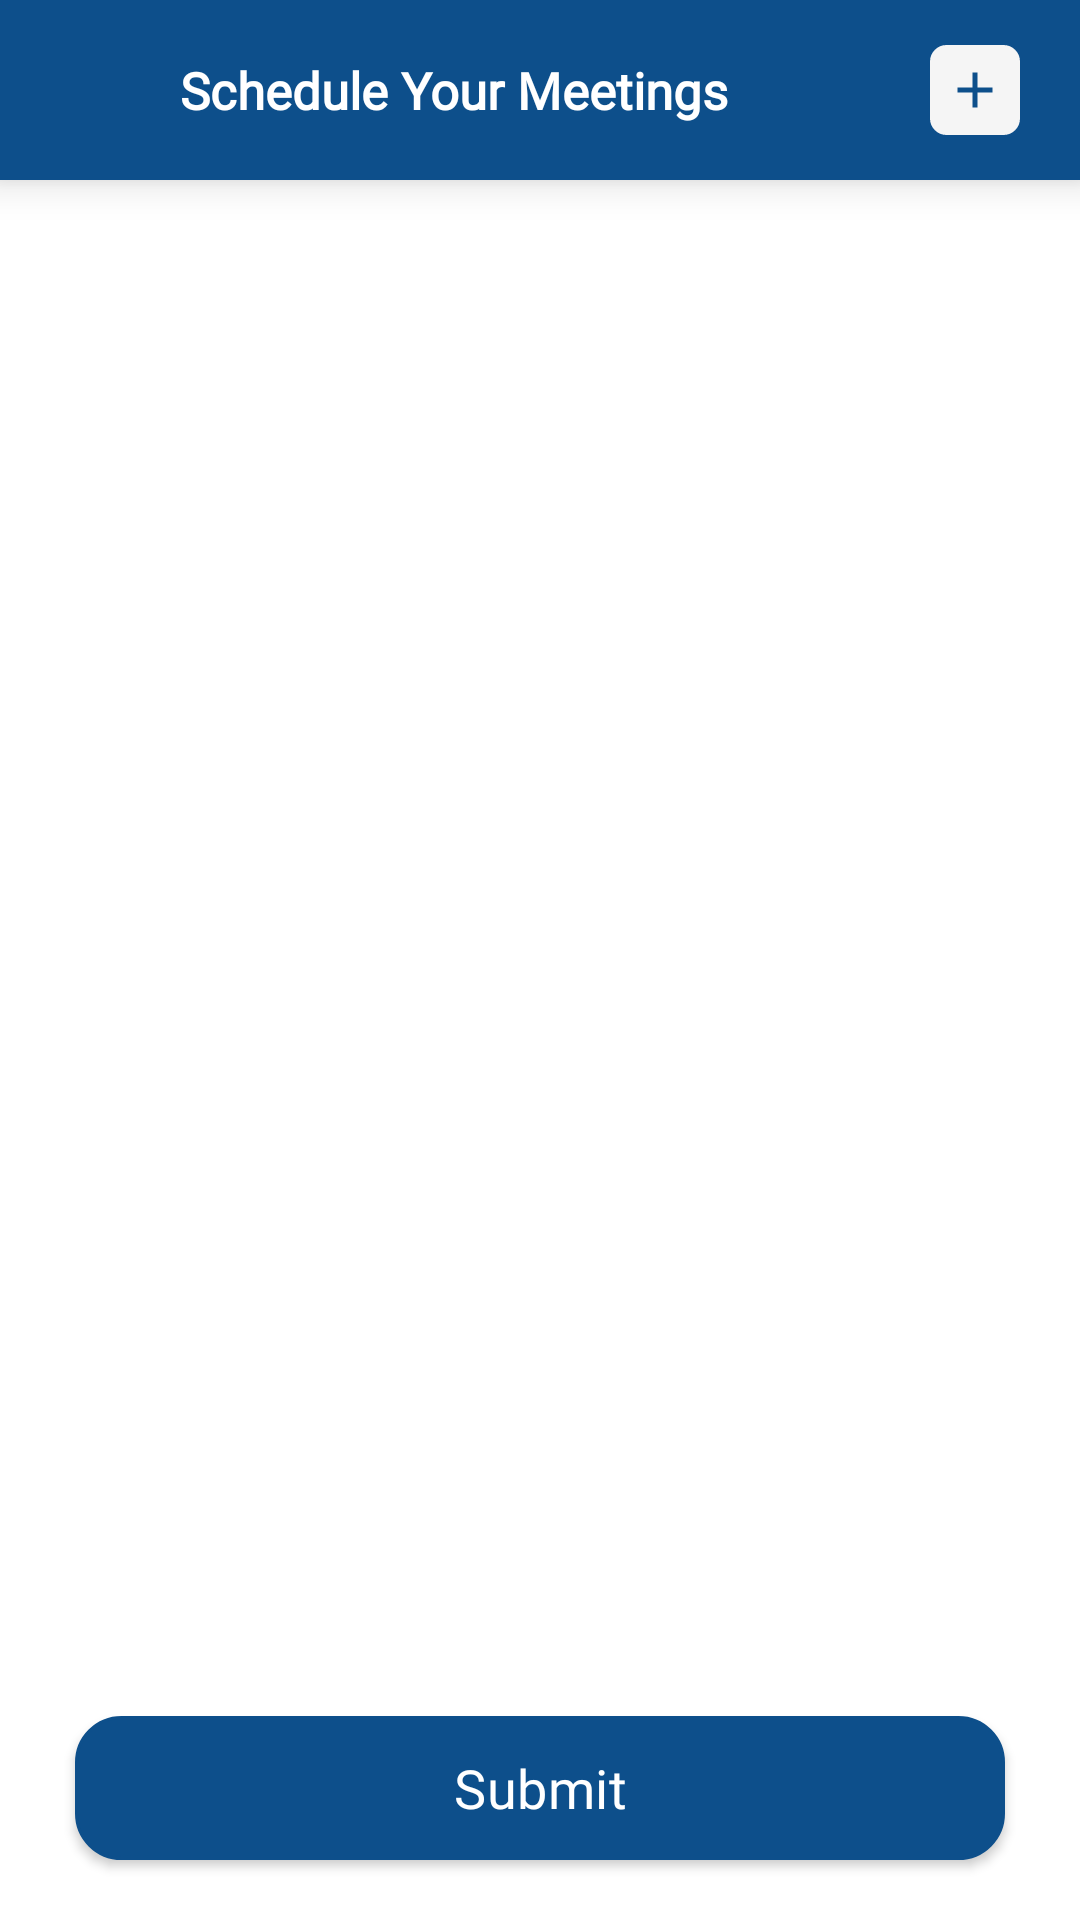

Where icons sit on this 1080px×1920px app screen, as (x1, y1, x2, y2):
add: (957, 72, 993, 108)
